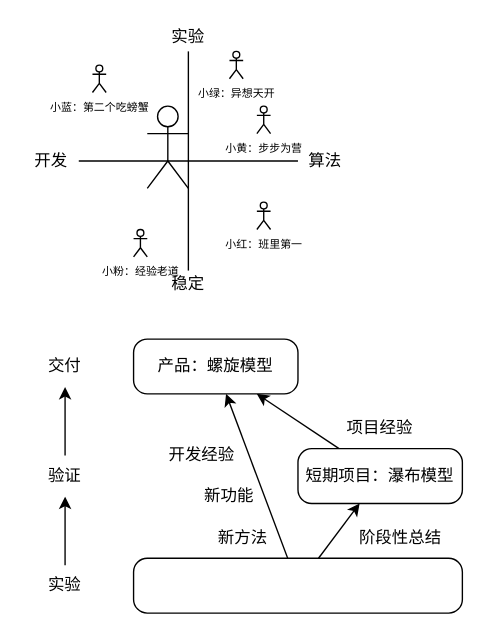
Image size: 486x637. Some labels were removed from this diagram. Here are the shapes that lost their labels. From the top down, the centre of each, then its label:
the point at 167,146: 老白：心有余力尚可
the point at 297,585: 实验性项目：快速+演化模型
